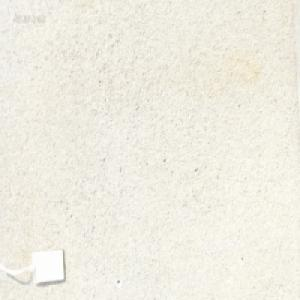LuggageTag: (6, 244, 66, 286)
